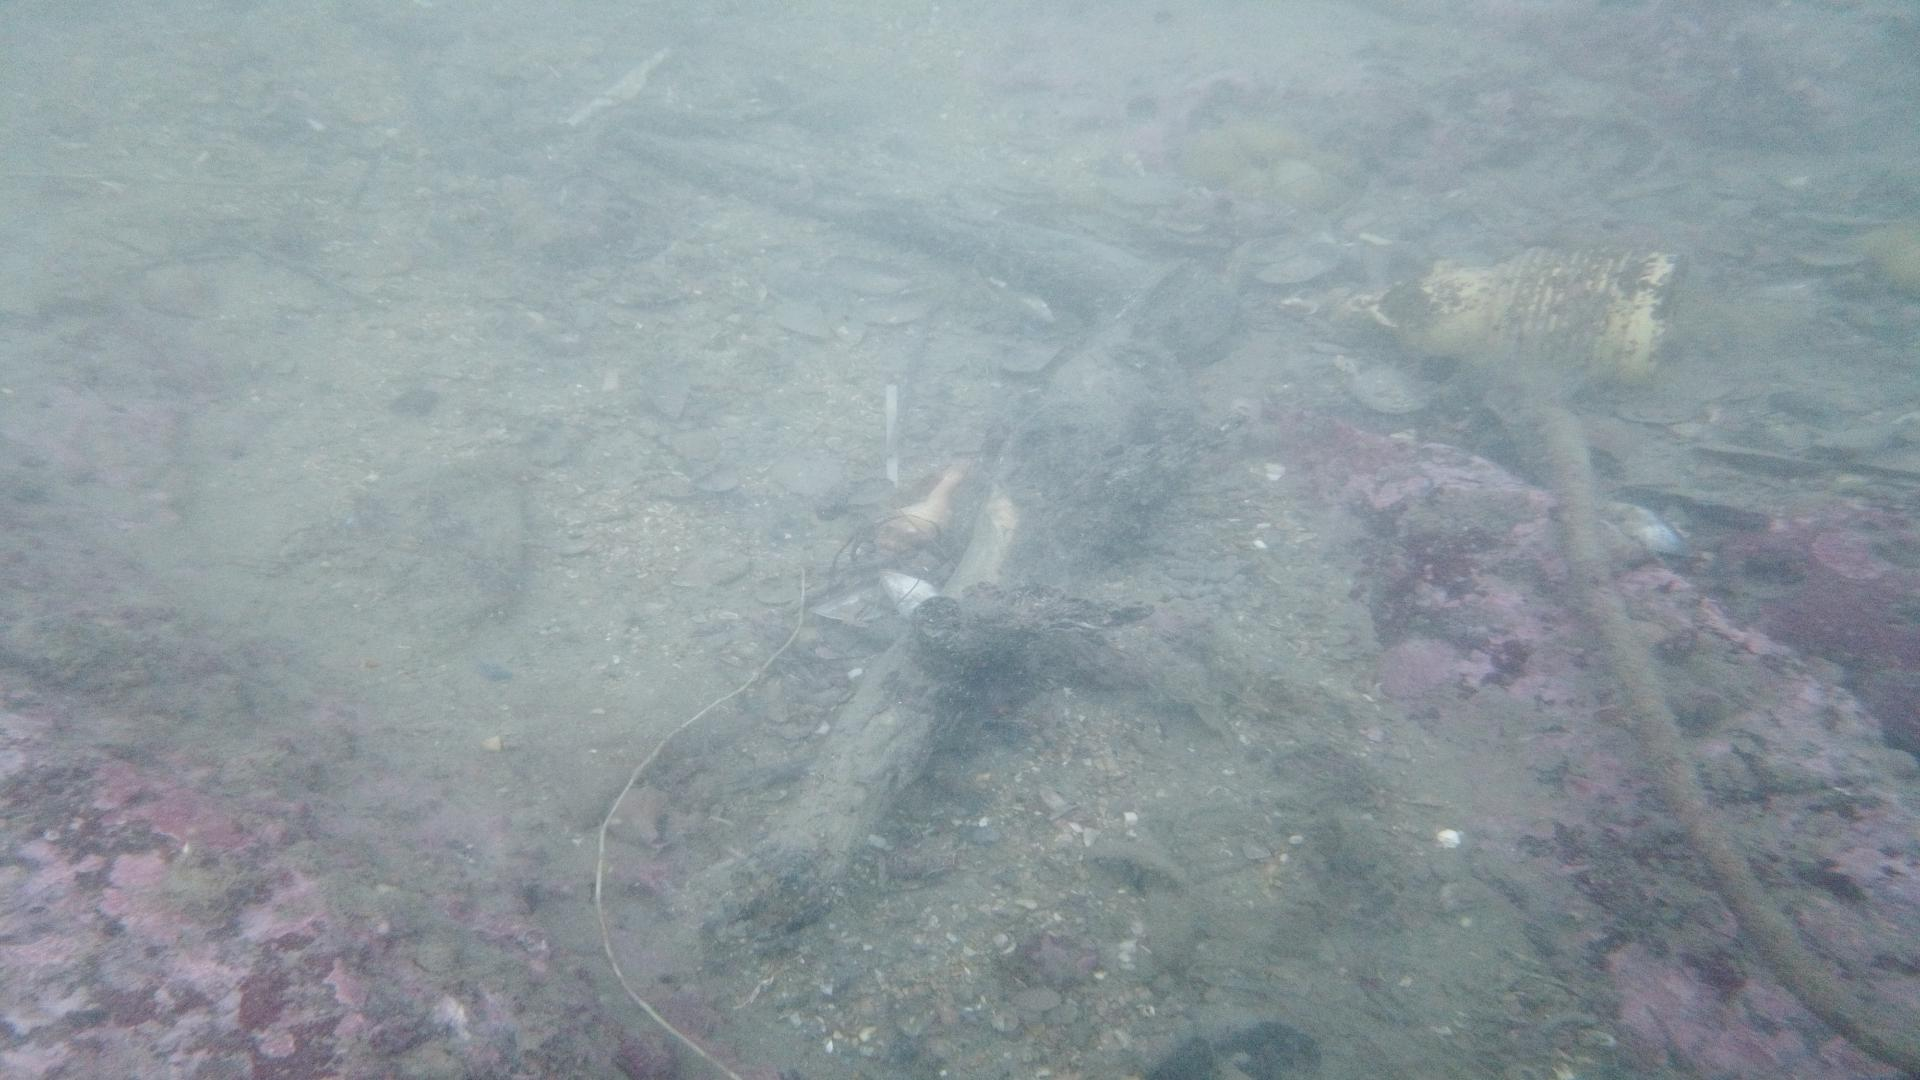rope: (1526, 404, 1920, 1080)
wood: (607, 127, 1247, 930)
